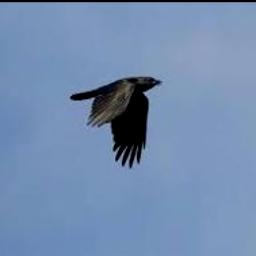Crow: (70, 77, 163, 169)
